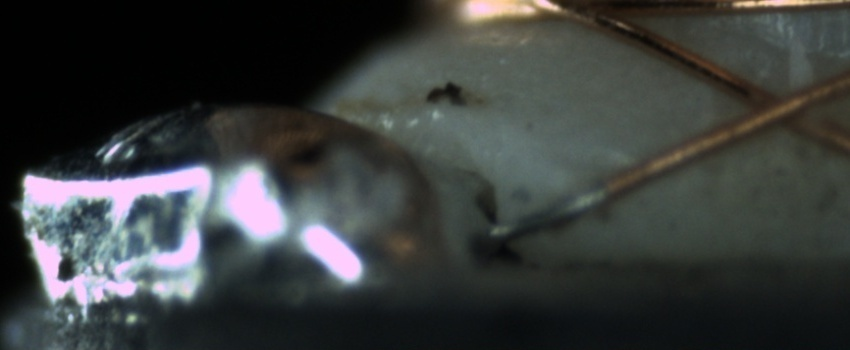CL: (725, 68, 828, 140)
TS: (484, 185, 605, 246)
TTCW: (486, 162, 637, 248)
